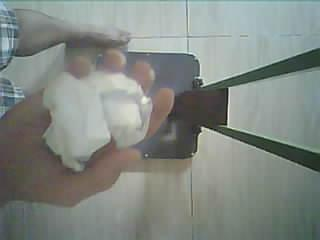paper: (43, 72, 152, 171)
